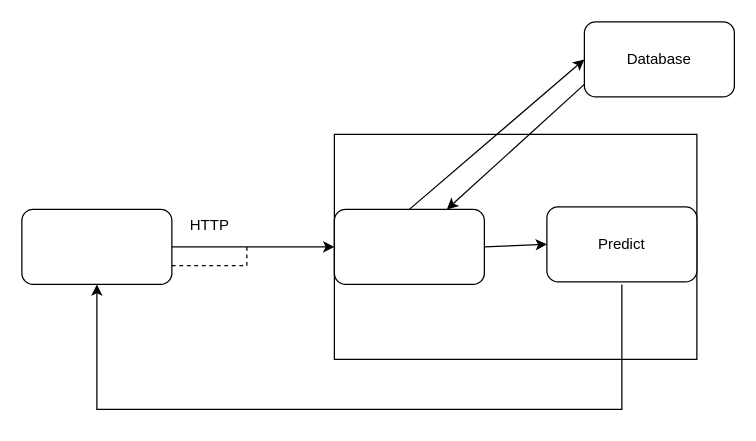
Image size: 756x441. Some labels were removed from this diagram. Each missing label, with the box of its shape:
GUI: (21, 208, 172, 284)
Select: (333, 208, 484, 284)
